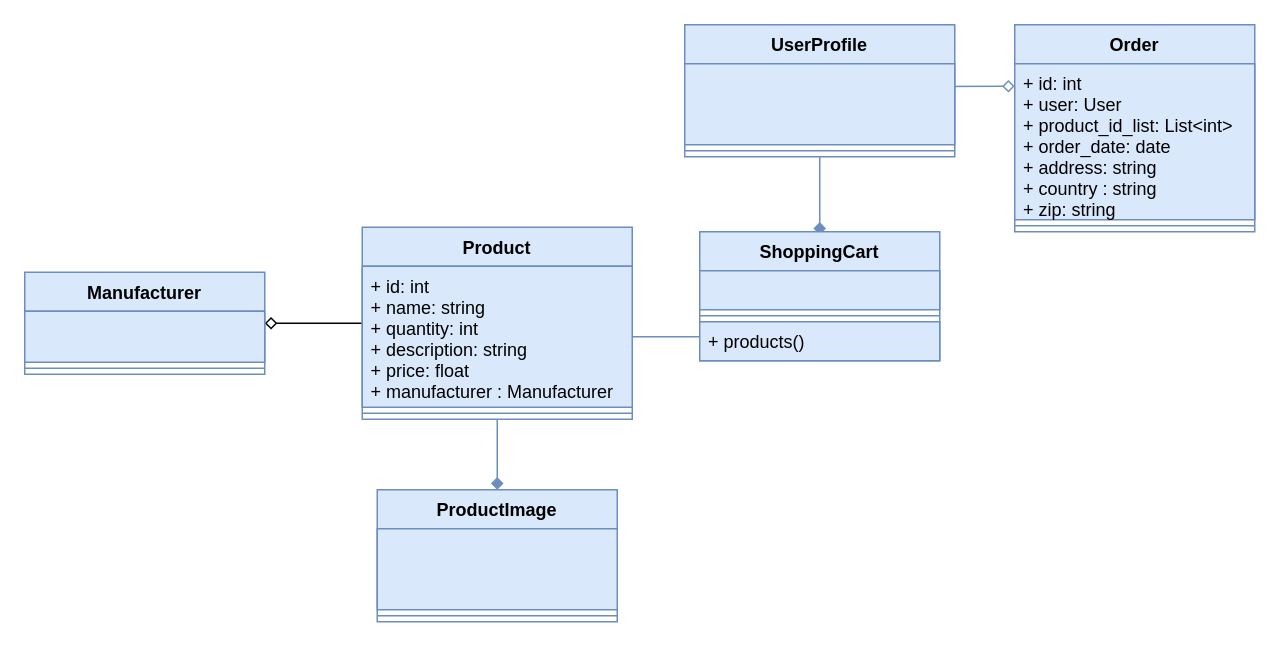
This 1280x647 diagram has some shape labels left out. Each missing label, with the centre of its shape:
"+ id: int + image: string + product: Product" goes at pixel 496 568.
"+ id: int + name: string" goes at pixel 144 336.
"+ id:int + shopping_cart: ShoppingCart + image: string" goes at pixel 819 103.
"+id: int" goes at pixel 819 289.
